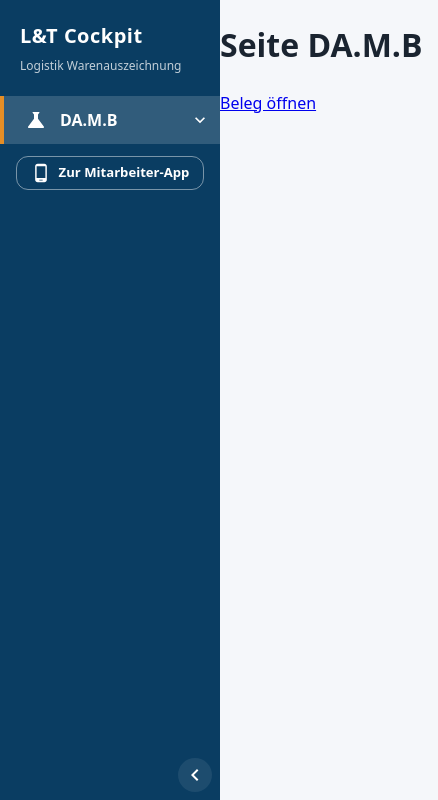
Test: AppShell — DA.M.B-Gruppe in der Nav-Rail › schmale Rail: Reiter bleiben als Icons mit Namen bedienbar, der Pfeil klappt weiter
Click the button named "Navigation einklappen".
click(195, 775)  # box [178, 758, 212, 792]
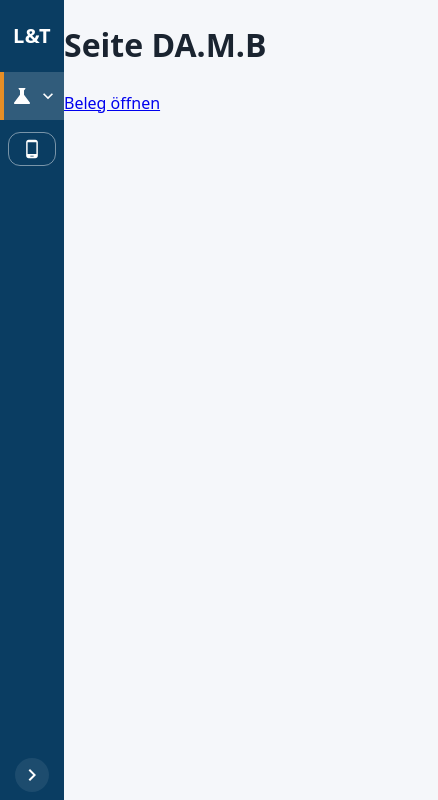
Click the button named "Reiter ausklappen".
click(48, 96)  # box [36, 84, 60, 108]
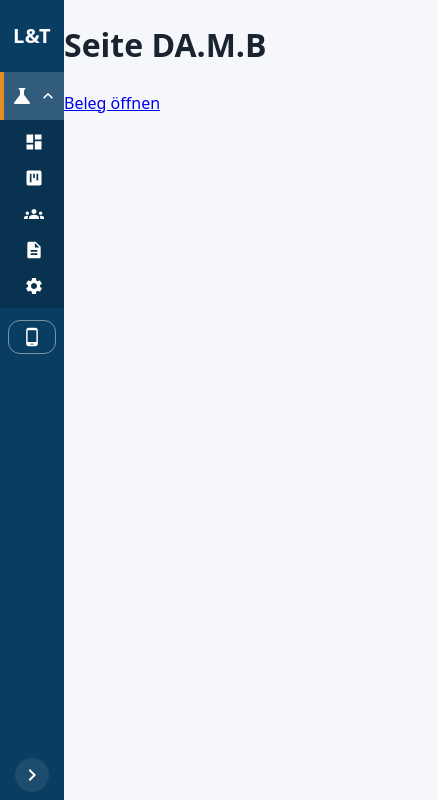
Now the link named "Tagescockpit" is shown
Now the link named "Digitale Ablagen" is shown, box [24, 168, 44, 188]
Now the link named "Mitarbeiterboard" is shown, box [24, 204, 44, 224]
Click the link named "Tagescockpit".
click(34, 142)  # box [24, 132, 44, 152]
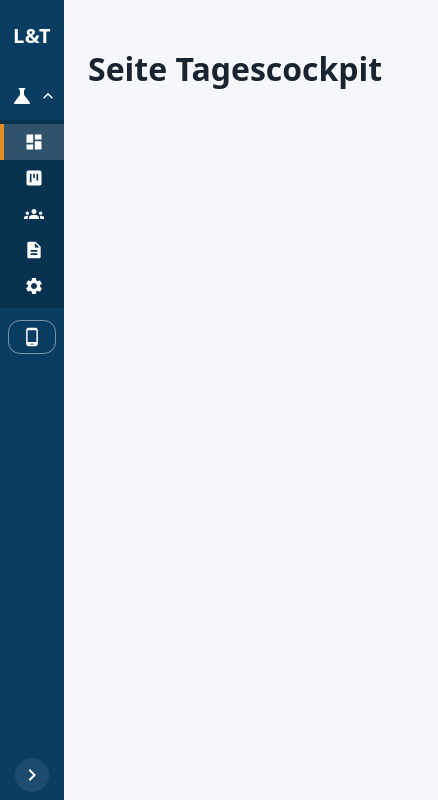
Now the heading "Seite Tagescockpit" is shown, box [88, 47, 382, 90]
